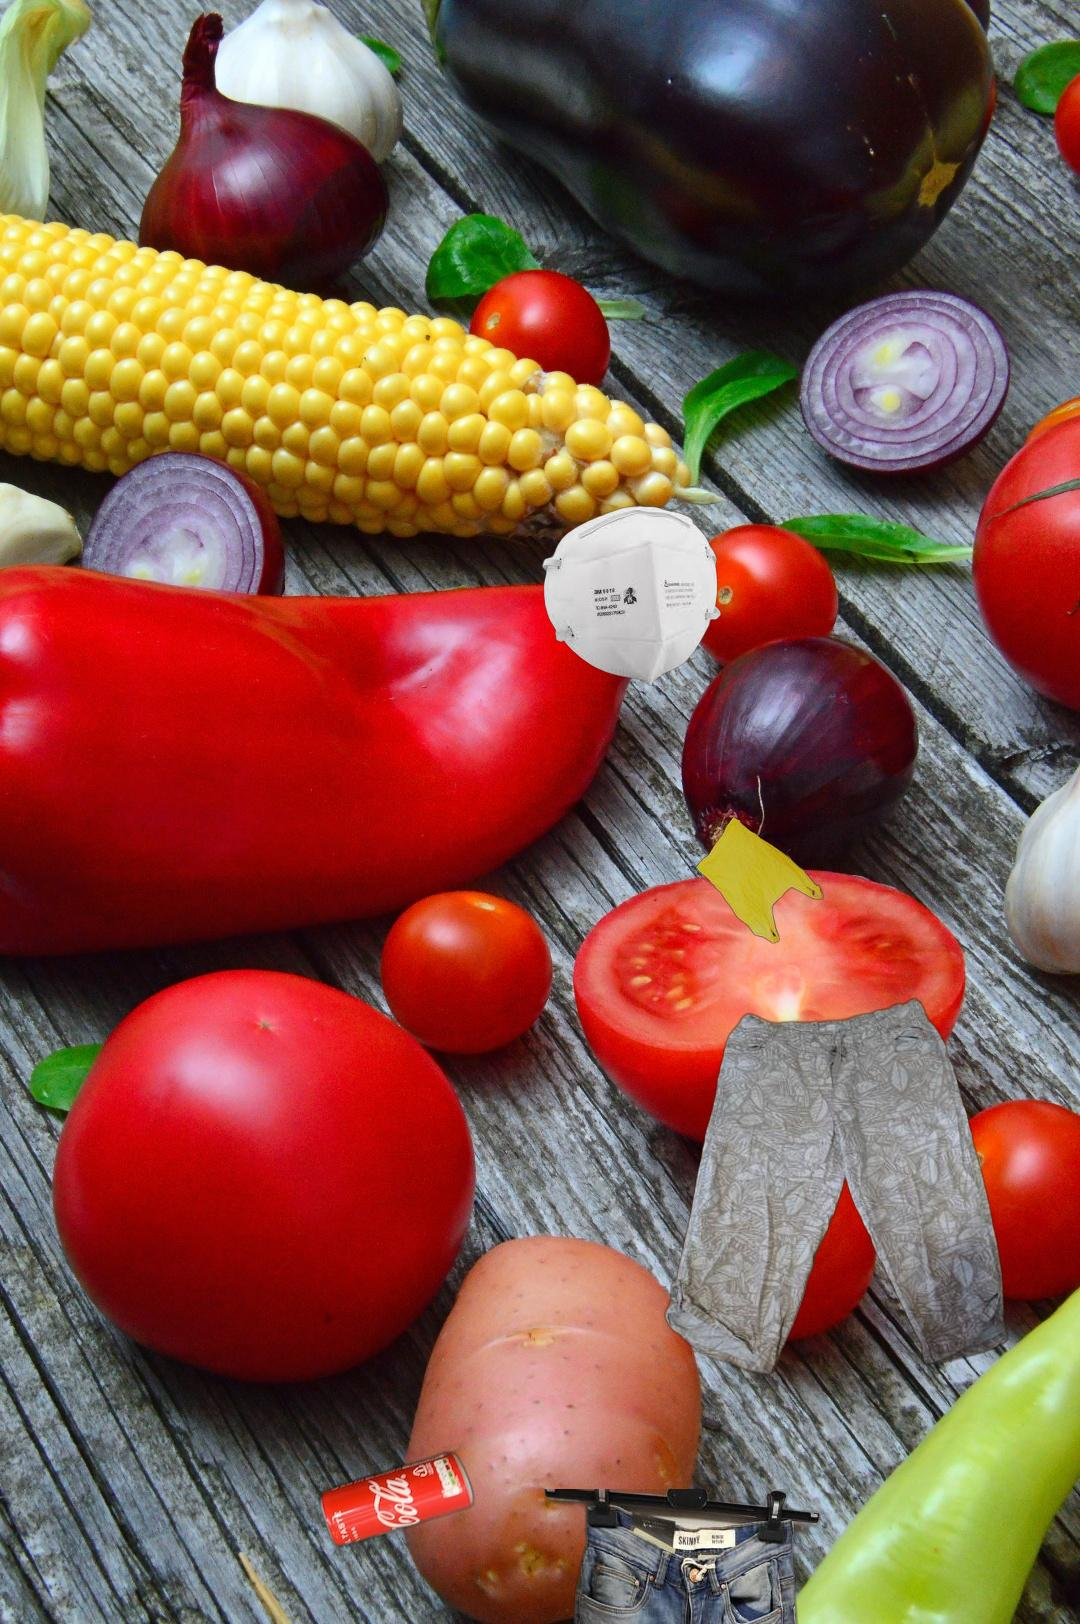clothes: (636, 993, 1011, 1449), (535, 1489, 824, 1624)
metal-cans: (316, 1444, 479, 1553)
plastic-bag: (695, 782, 826, 945)
trash: (539, 502, 723, 686)
